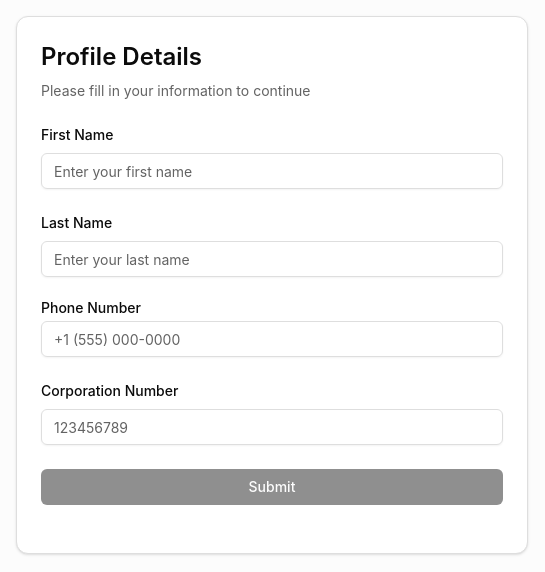
Test: Validation UX Behavior › After blur (validation triggered) › should show specific validation messages for different error types
Test empty field
Click the field labelled "First Name" at (272, 171), box [41,153,503,189]
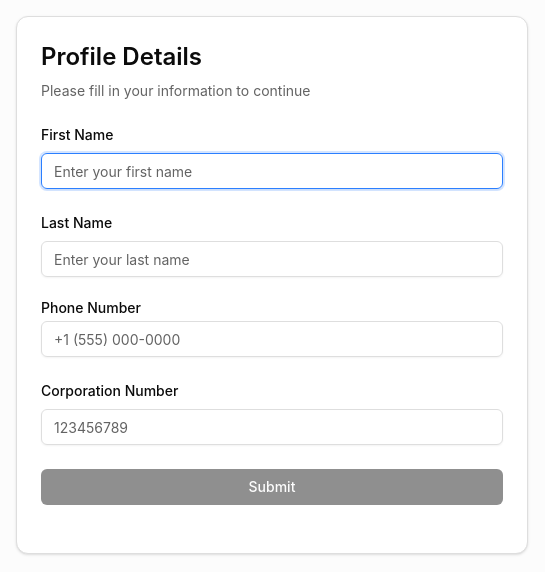
Press Tab
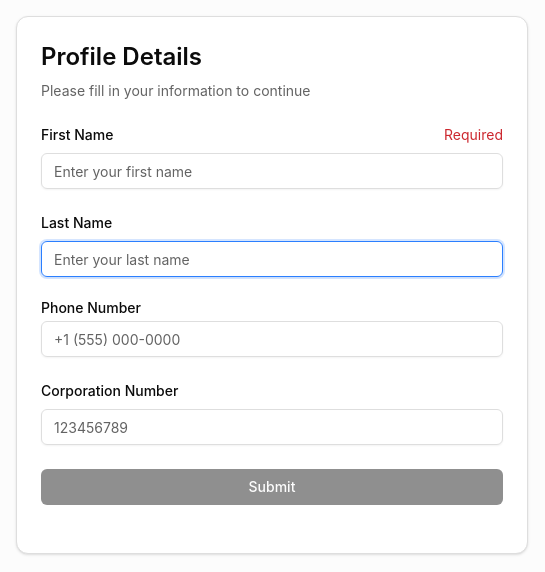
Expected: the text "Required" is shown, [444,125,503,145]
Clear and test invalid characters
Type "test123" into the field labelled "First Name" at (272, 171), box [41,153,503,189]
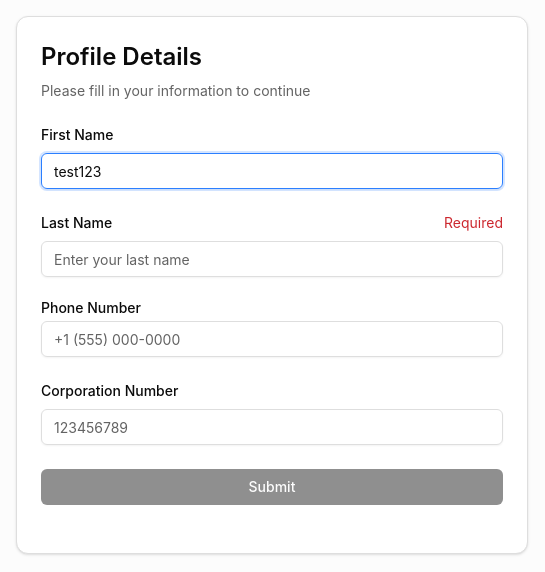
Press Tab
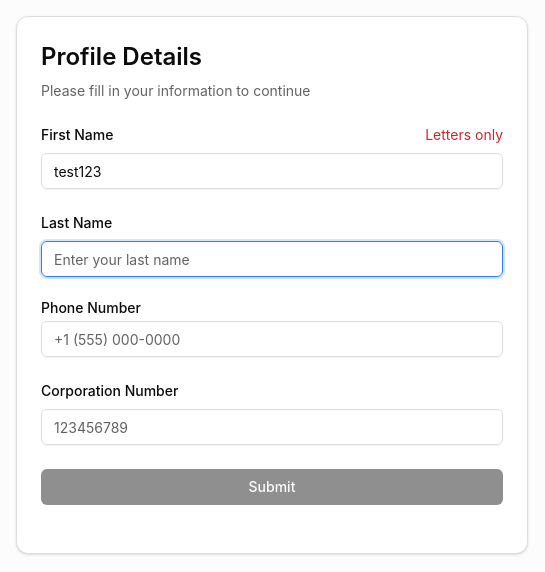
Expected: the text "Letters only" is shown, [425,125,503,145]
